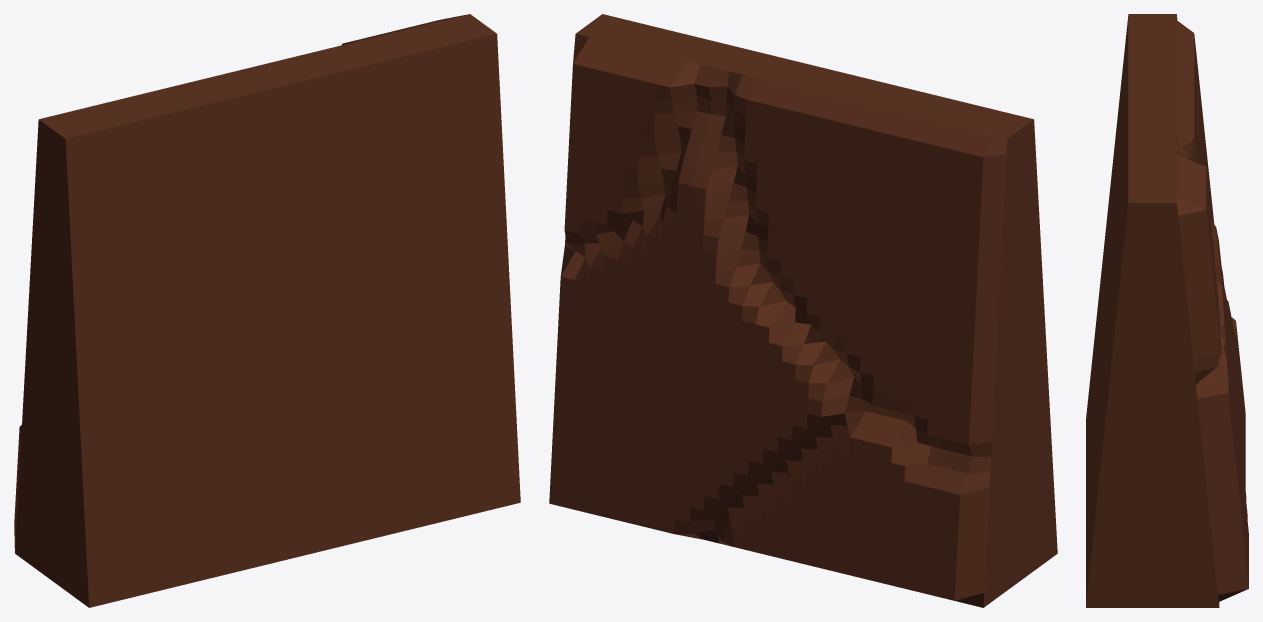
Rendered from wall.obj.
3 renders of one model, left to right at view 1: azimuth 30°, elevation 25°; view 2: azimuth 150°, elevation 25°; view 3: azimuth 270°, elevation 25°, orthographic. The views are drawn at different scales.
Visible parts, largest first — view 1: Wall; view 2: Wall; view 3: Wall.
Boxes of the visible parts, x1=… form: Wall: x1=14, y1=14, x2=520, y2=607; Wall: x1=549, y1=14, x2=1057, y2=607; Wall: x1=1086, y1=14, x2=1248, y2=607.
Bounding box in the file's own units: 2 × 2 × 0.7292.
